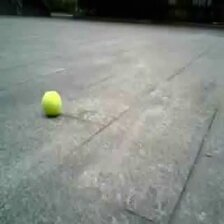tennis: (41, 91, 61, 114)
